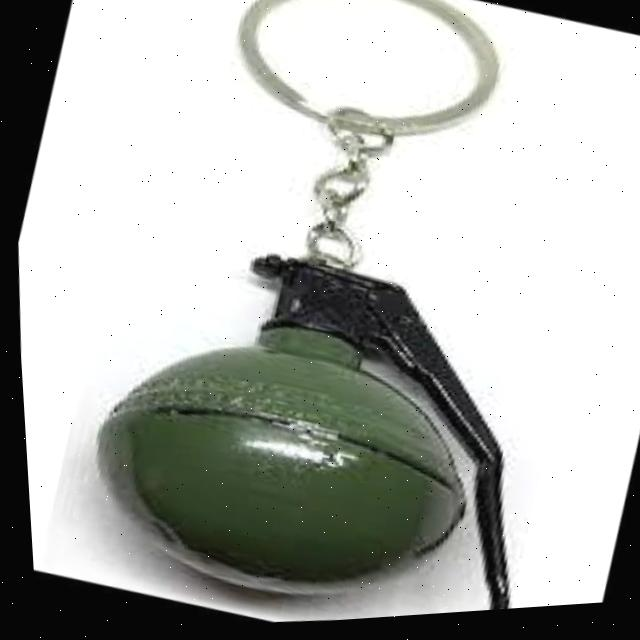grenade: (21, 0, 640, 639)
